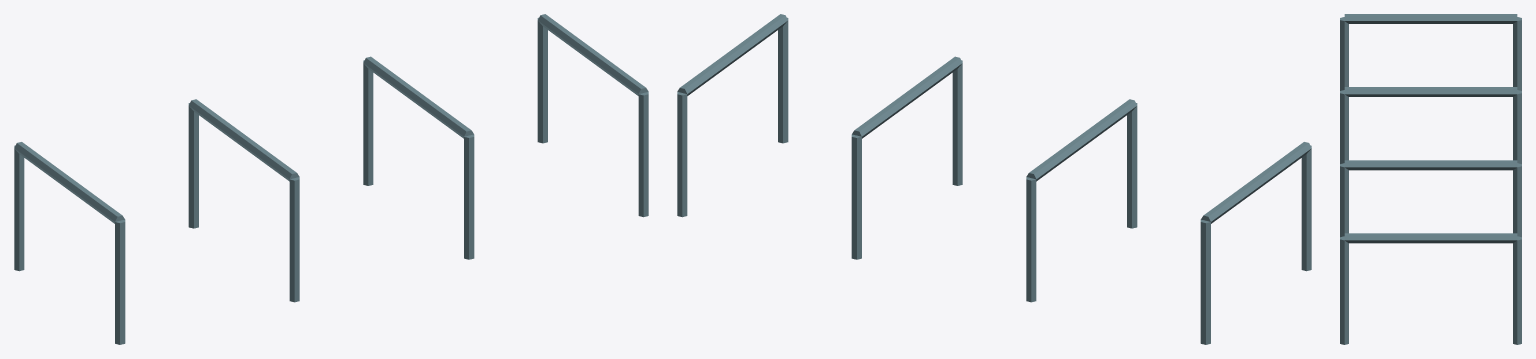
The model's file is BikeRack.fbx.
3 views of the same model, side by side, from view 1: azimuth 30°, elevation 25°; view 2: azimuth 150°, elevation 25°; view 3: azimuth 270°, elevation 25° (orthographic). The views are drawn at different scales.
Visible parts, largest first — view 1: BikeRack; view 2: BikeRack; view 3: BikeRack.
Part boxes in pixels (x1,y1,x2,y2): BikeRack: (14,14,648,344); BikeRack: (677,14,1311,344); BikeRack: (1340,14,1521,344).
Bounding box in the file's own units: 3.67 × 0.8303 × 1.26.
